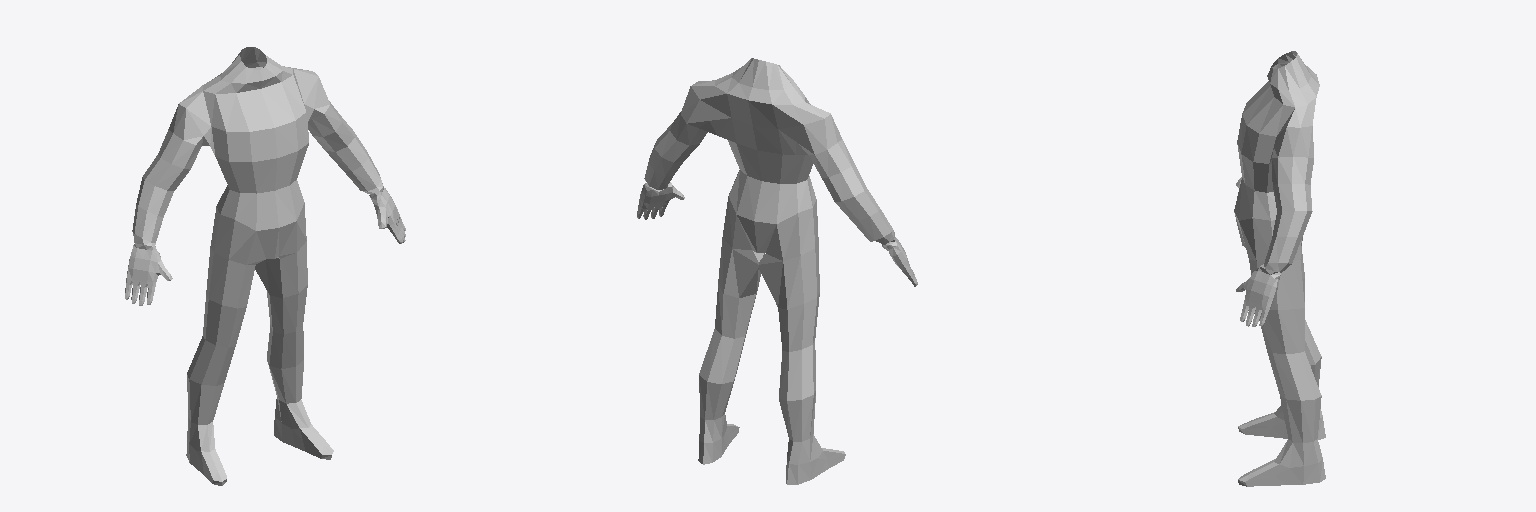
File: body.obj
The picture shows the model from 3 angles: view 1: azimuth 30°, elevation 25°; view 2: azimuth 150°, elevation 25°; view 3: azimuth 270°, elevation 25°; orthographic projection.
Parts seen in each view (by area): view 1: Cylinder001; view 2: Cylinder001; view 3: Cylinder001.
Part boxes in pixels (left/top/right/bottom): Cylinder001: left=125, top=47, right=405, bottom=485; Cylinder001: left=637, top=58, right=917, bottom=484; Cylinder001: left=1234, top=51, right=1325, bottom=486.
Bounding box in the file's own units: 446 × 615 × 127.